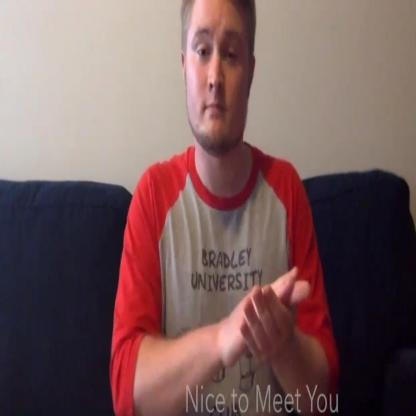NiceToMeetYou: (218, 251, 312, 387)
